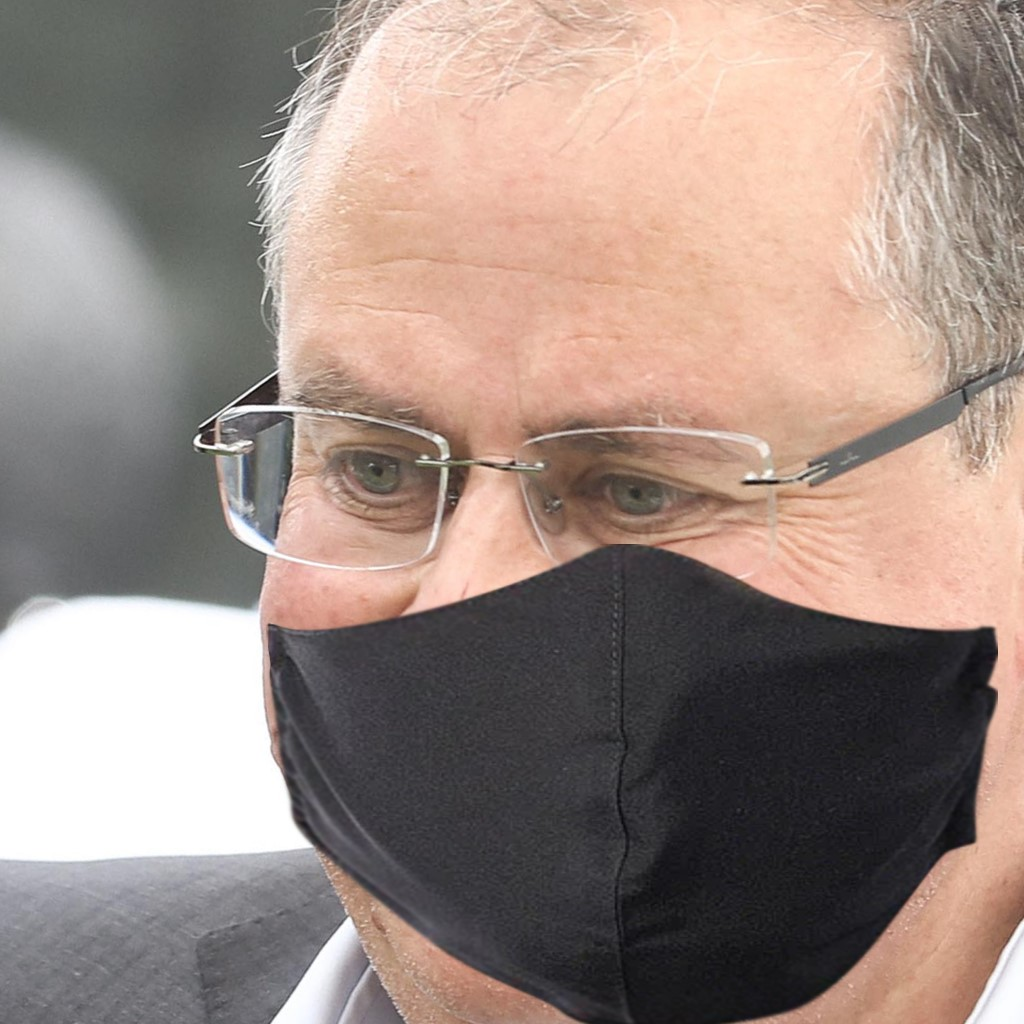con_mascara: (248, 19, 1006, 998)
